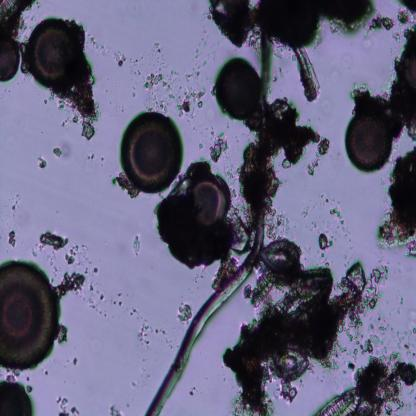Background material: (230, 263, 368, 413), (151, 183, 236, 279), (57, 244, 116, 321), (377, 146, 416, 258), (268, 1, 372, 39), (271, 95, 318, 162), (206, 0, 262, 52), (392, 22, 416, 137), (88, 29, 144, 76), (53, 70, 103, 122), (356, 360, 398, 413), (364, 247, 394, 312), (360, 314, 400, 354), (129, 310, 164, 352), (263, 210, 289, 247), (308, 136, 330, 177), (398, 310, 416, 359), (39, 231, 69, 252), (367, 15, 396, 34), (2, 191, 22, 218), (212, 136, 230, 164), (57, 394, 80, 414), (52, 140, 72, 160), (316, 232, 335, 253), (397, 1, 416, 22), (144, 72, 166, 90), (175, 96, 194, 114), (176, 302, 193, 322), (81, 121, 95, 142), (329, 208, 345, 226), (106, 404, 123, 416), (7, 229, 17, 248), (36, 157, 49, 171), (112, 291, 122, 308), (188, 385, 197, 401), (91, 154, 107, 162), (70, 354, 79, 366), (196, 140, 204, 152)
Cellulose filter fibre: (291, 48, 323, 102)
Diatom: (0, 258, 59, 372), (119, 112, 183, 194), (25, 17, 82, 87), (347, 108, 394, 174), (188, 166, 233, 232), (214, 56, 260, 118), (261, 346, 313, 378), (314, 387, 362, 414), (0, 378, 33, 415), (250, 267, 275, 309), (0, 2, 34, 32), (0, 38, 22, 82), (401, 362, 416, 385), (132, 234, 141, 258)
Microfibre: (142, 0, 272, 414)
